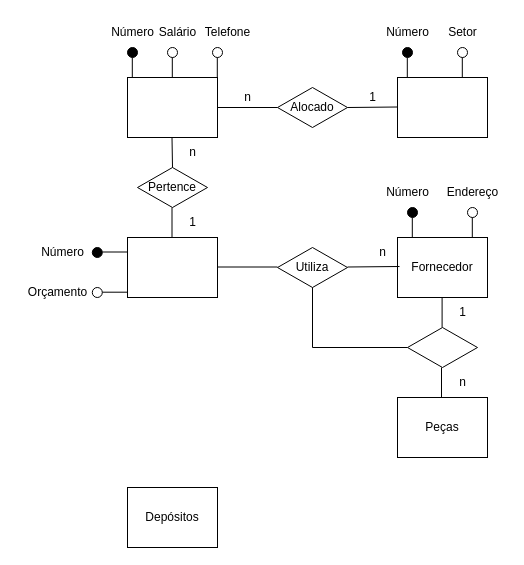
The diagram is 524 pixels wide and 565 high, and some of its shapes have lost their labels. Here are the shapes that lost their labels. From the top down, the box of each, then its label:
(126, 76, 218, 138): Funcionarios
(396, 76, 488, 138): Departamento
(126, 236, 218, 298): Projeto
